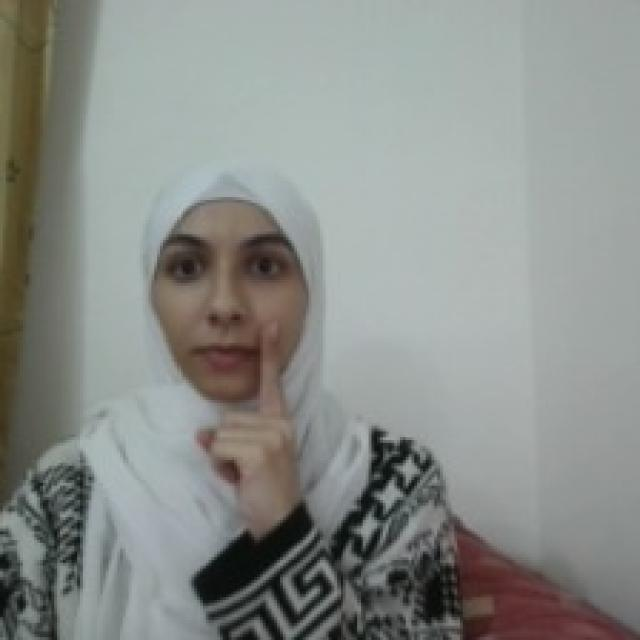mother: (189, 314, 306, 533)
